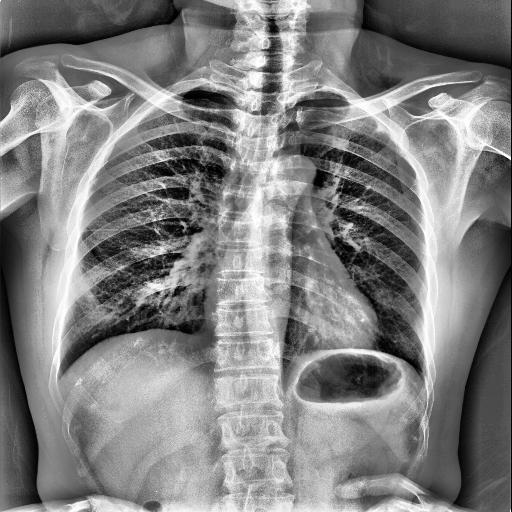0- Aortic enlargement: (276, 154, 316, 188)
11- Pleural thickening: (368, 113, 394, 139), (365, 118, 392, 140), (373, 119, 397, 138)
13- Pulmonary fibrosis: (373, 119, 397, 138)
